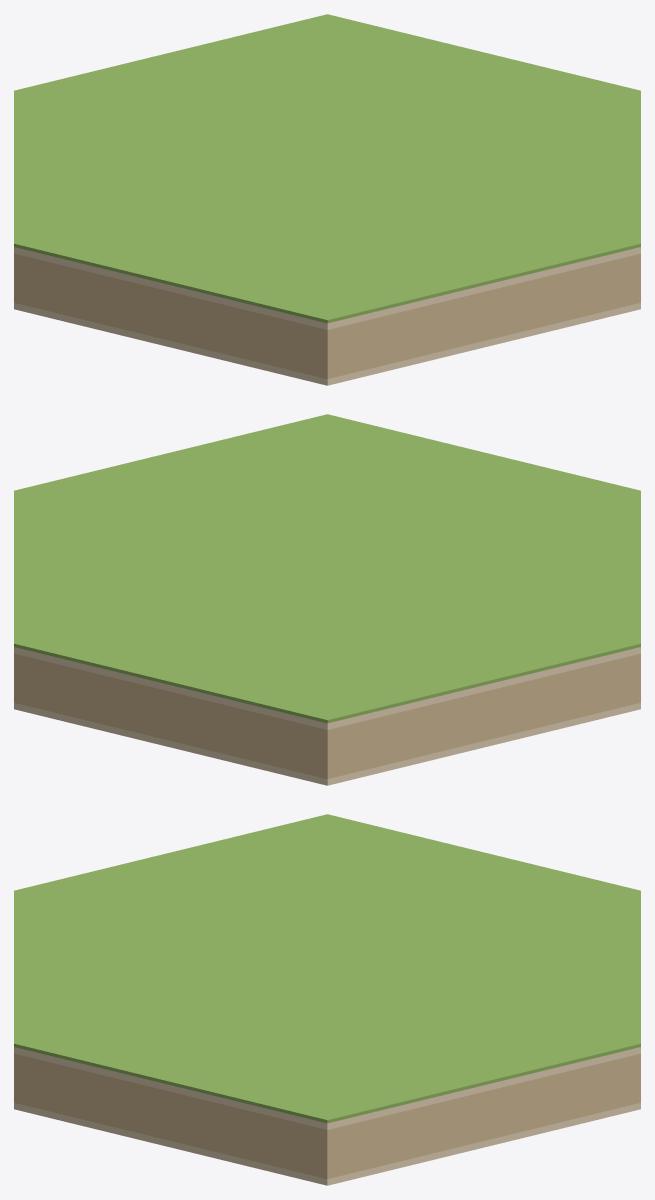
The model's file is terrain.glb.
The picture shows the model from 3 angles, top to bottom: view 1: azimuth 30°, elevation 25°; view 2: azimuth 150°, elevation 25°; view 3: azimuth 270°, elevation 25°; orthographic projection.
Visible parts, largest first — view 1: Tile_Grass_Light_Geometry; view 2: Tile_Grass_Light_Geometry; view 3: Tile_Grass_Light_Geometry.
Boxes of the visible parts, x1,y1,x2,y2 form: Tile_Grass_Light_Geometry: [14, 14, 640, 385]; Tile_Grass_Light_Geometry: [14, 414, 640, 785]; Tile_Grass_Light_Geometry: [14, 814, 640, 1185].
Size of the model in its own units: 2 by 0.2 by 1.73.
